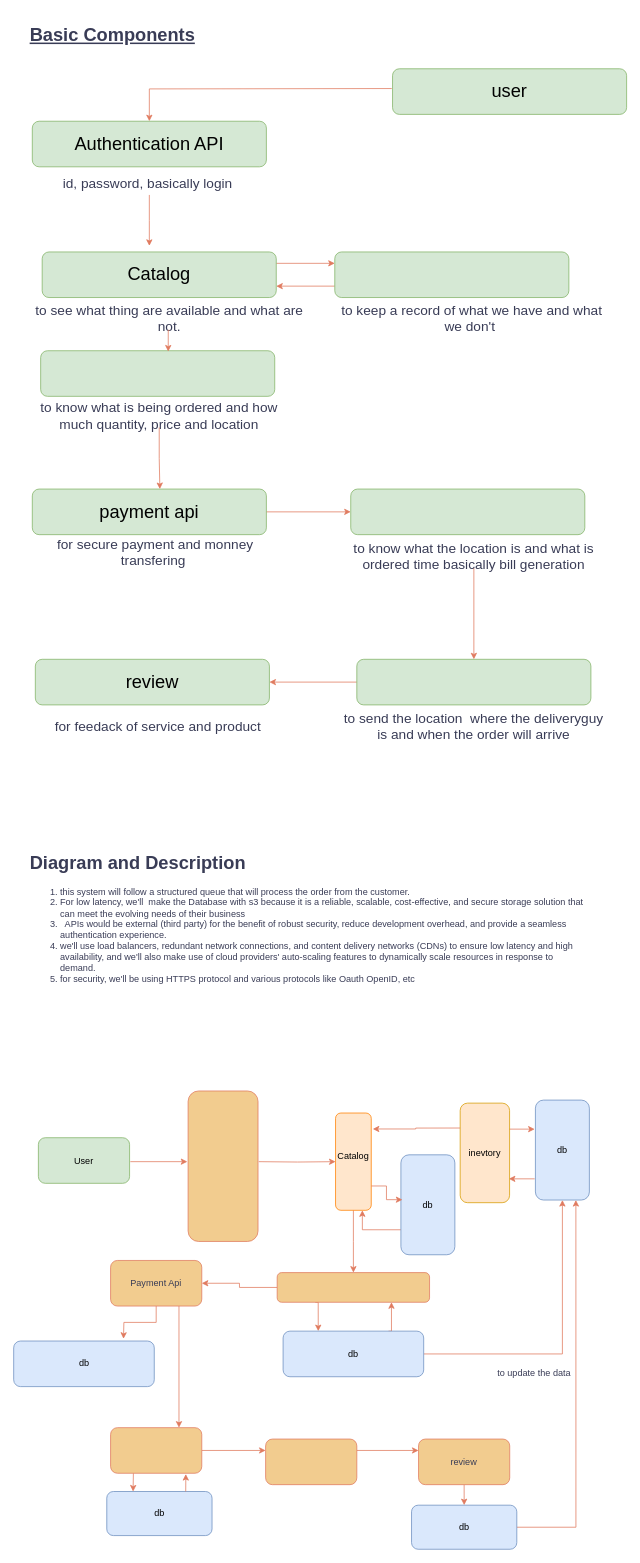
The diagram is 640 pixels wide and 1563 high, and some of its shapes have lost their labels. The shapes that lost their labels are listed below. From the top down, each one's centre as x and y in pixels, then its label:
At point 451,274: "inventory".
At point 157,373: "Order Management".
At point 467,511: "Delivery management".
At point 473,682: "notification".
At point 222,1165: "authentication service i.e., API Gateway".
At point 353,1287: "Ordering Management".
At point 156,1450: "delivery".
At point 311,1461: "notification api".
